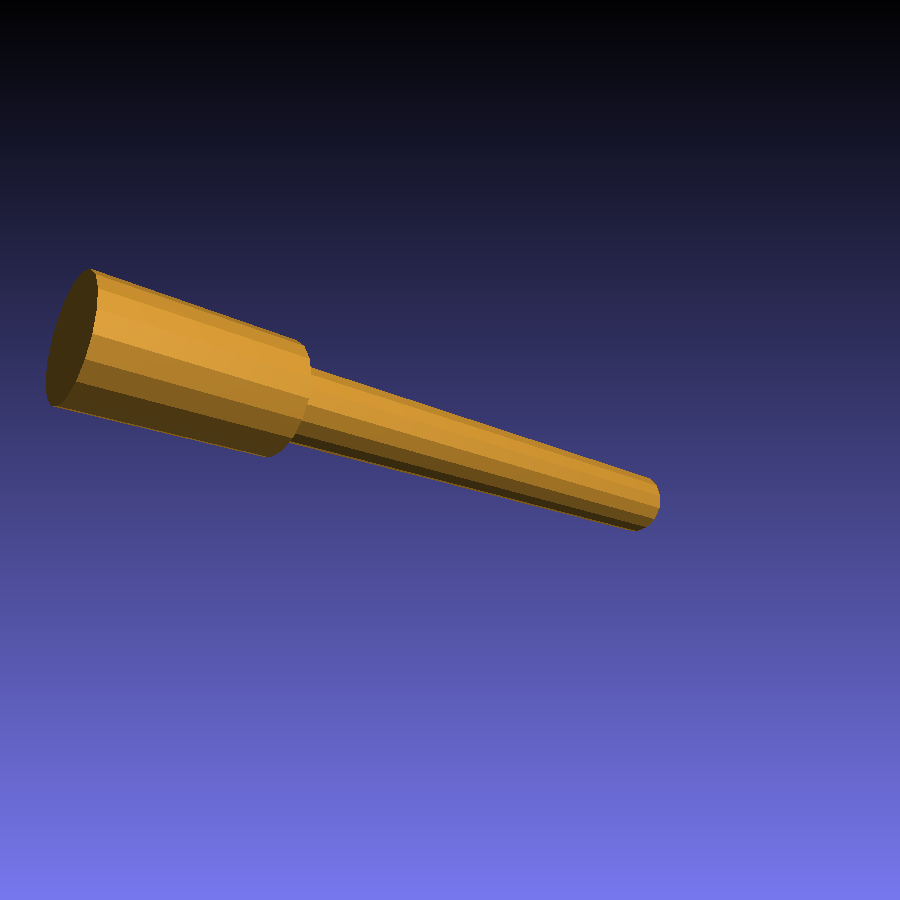cargo_g: (45, 269, 661, 530)
